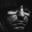face: (2, 1, 30, 30)
